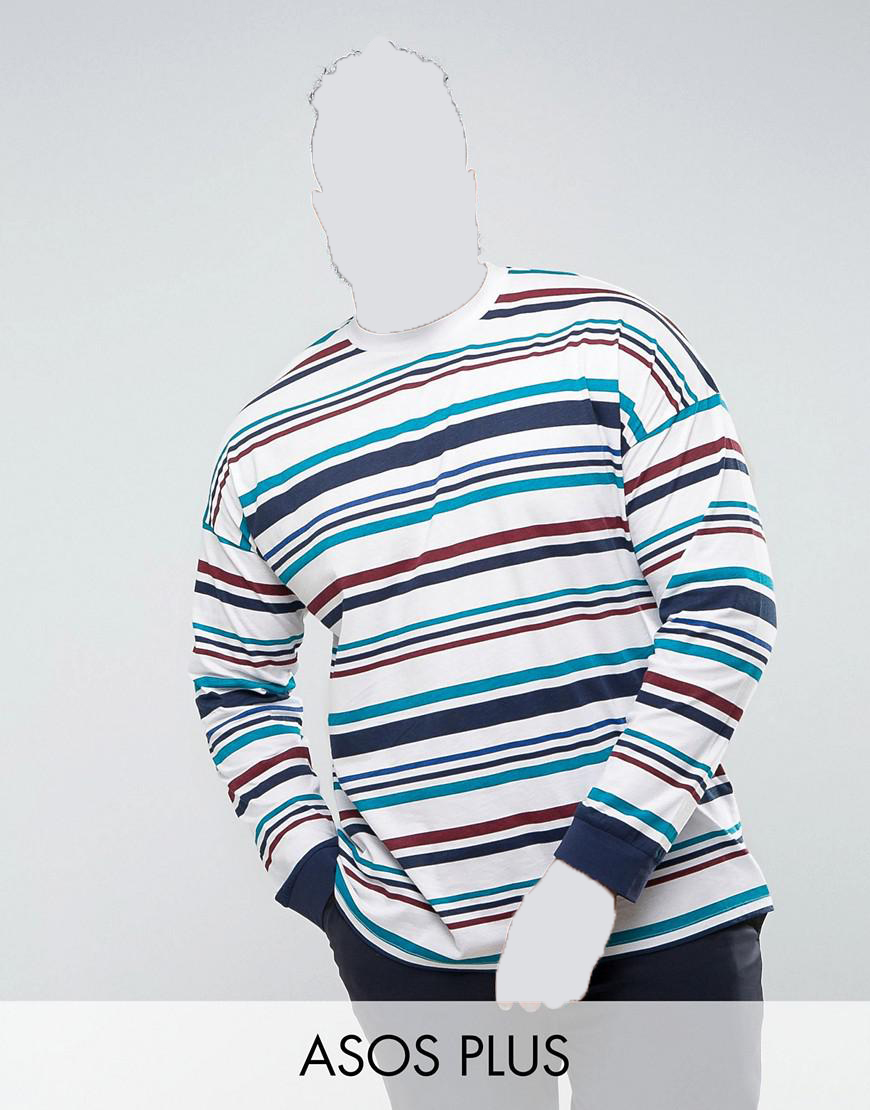teeshirt: (169, 268, 795, 964)
